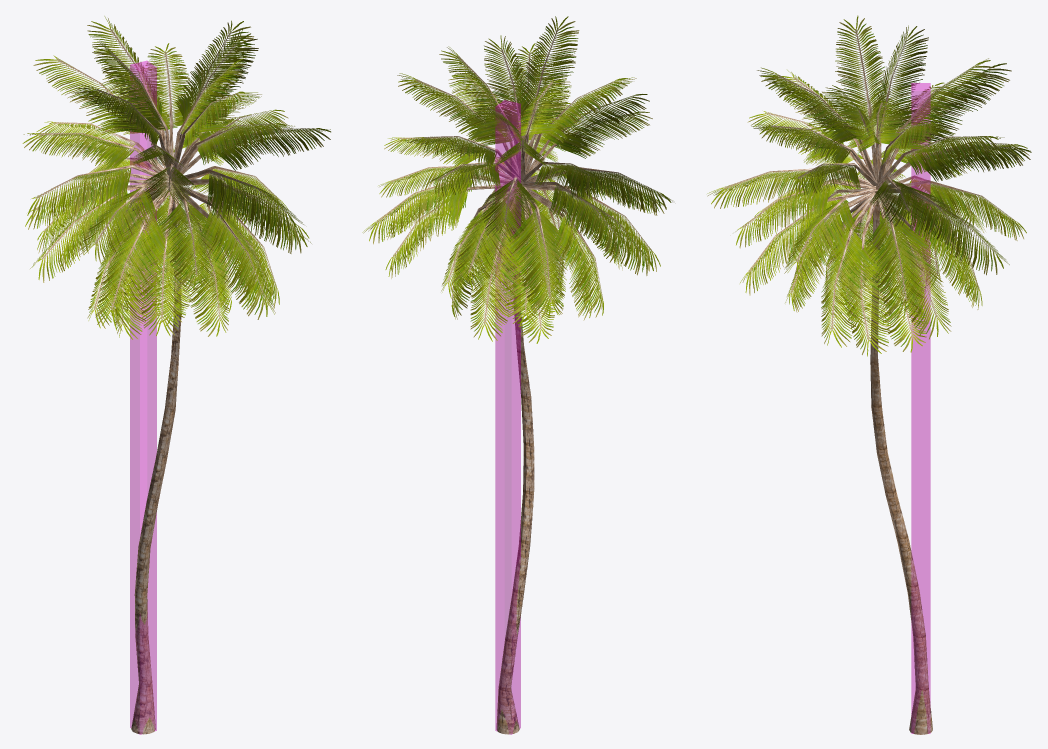
File: coconut_tree_low_poly.glb
3 views of the same model, side by side, from view 1: azimuth 30°, elevation 25°; view 2: azimuth 150°, elevation 25°; view 3: azimuth 270°, elevation 25° (orthographic). The views are drawn at different scales.
Parts seen in each view (by area): view 1: Tree_1, Tree_0, col_column_01; view 2: Tree_1, col_column_01, Tree_0; view 3: Tree_1, Tree_0, col_column_01.
Part boxes in pixels (box(x1,y1,x2,y2)): Tree_1: box(22, 16, 330, 339); Tree_0: box(77, 70, 260, 734); col_column_01: box(130, 61, 156, 734); Tree_1: box(362, 16, 672, 343); col_column_01: box(495, 100, 520, 734); Tree_0: box(418, 71, 620, 734); Tree_1: box(707, 15, 1031, 356); Tree_0: box(773, 72, 978, 734); col_column_01: box(911, 83, 930, 733).
Bounding box in the file's own units: 66.62 × 156 × 67.58.
Materials: 3 (2 with a texture image).
